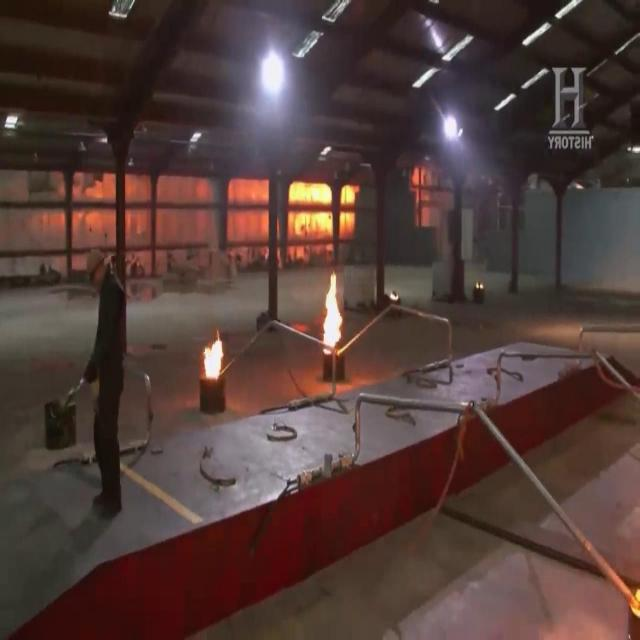fire: (316, 264, 348, 372), (198, 319, 225, 394)
